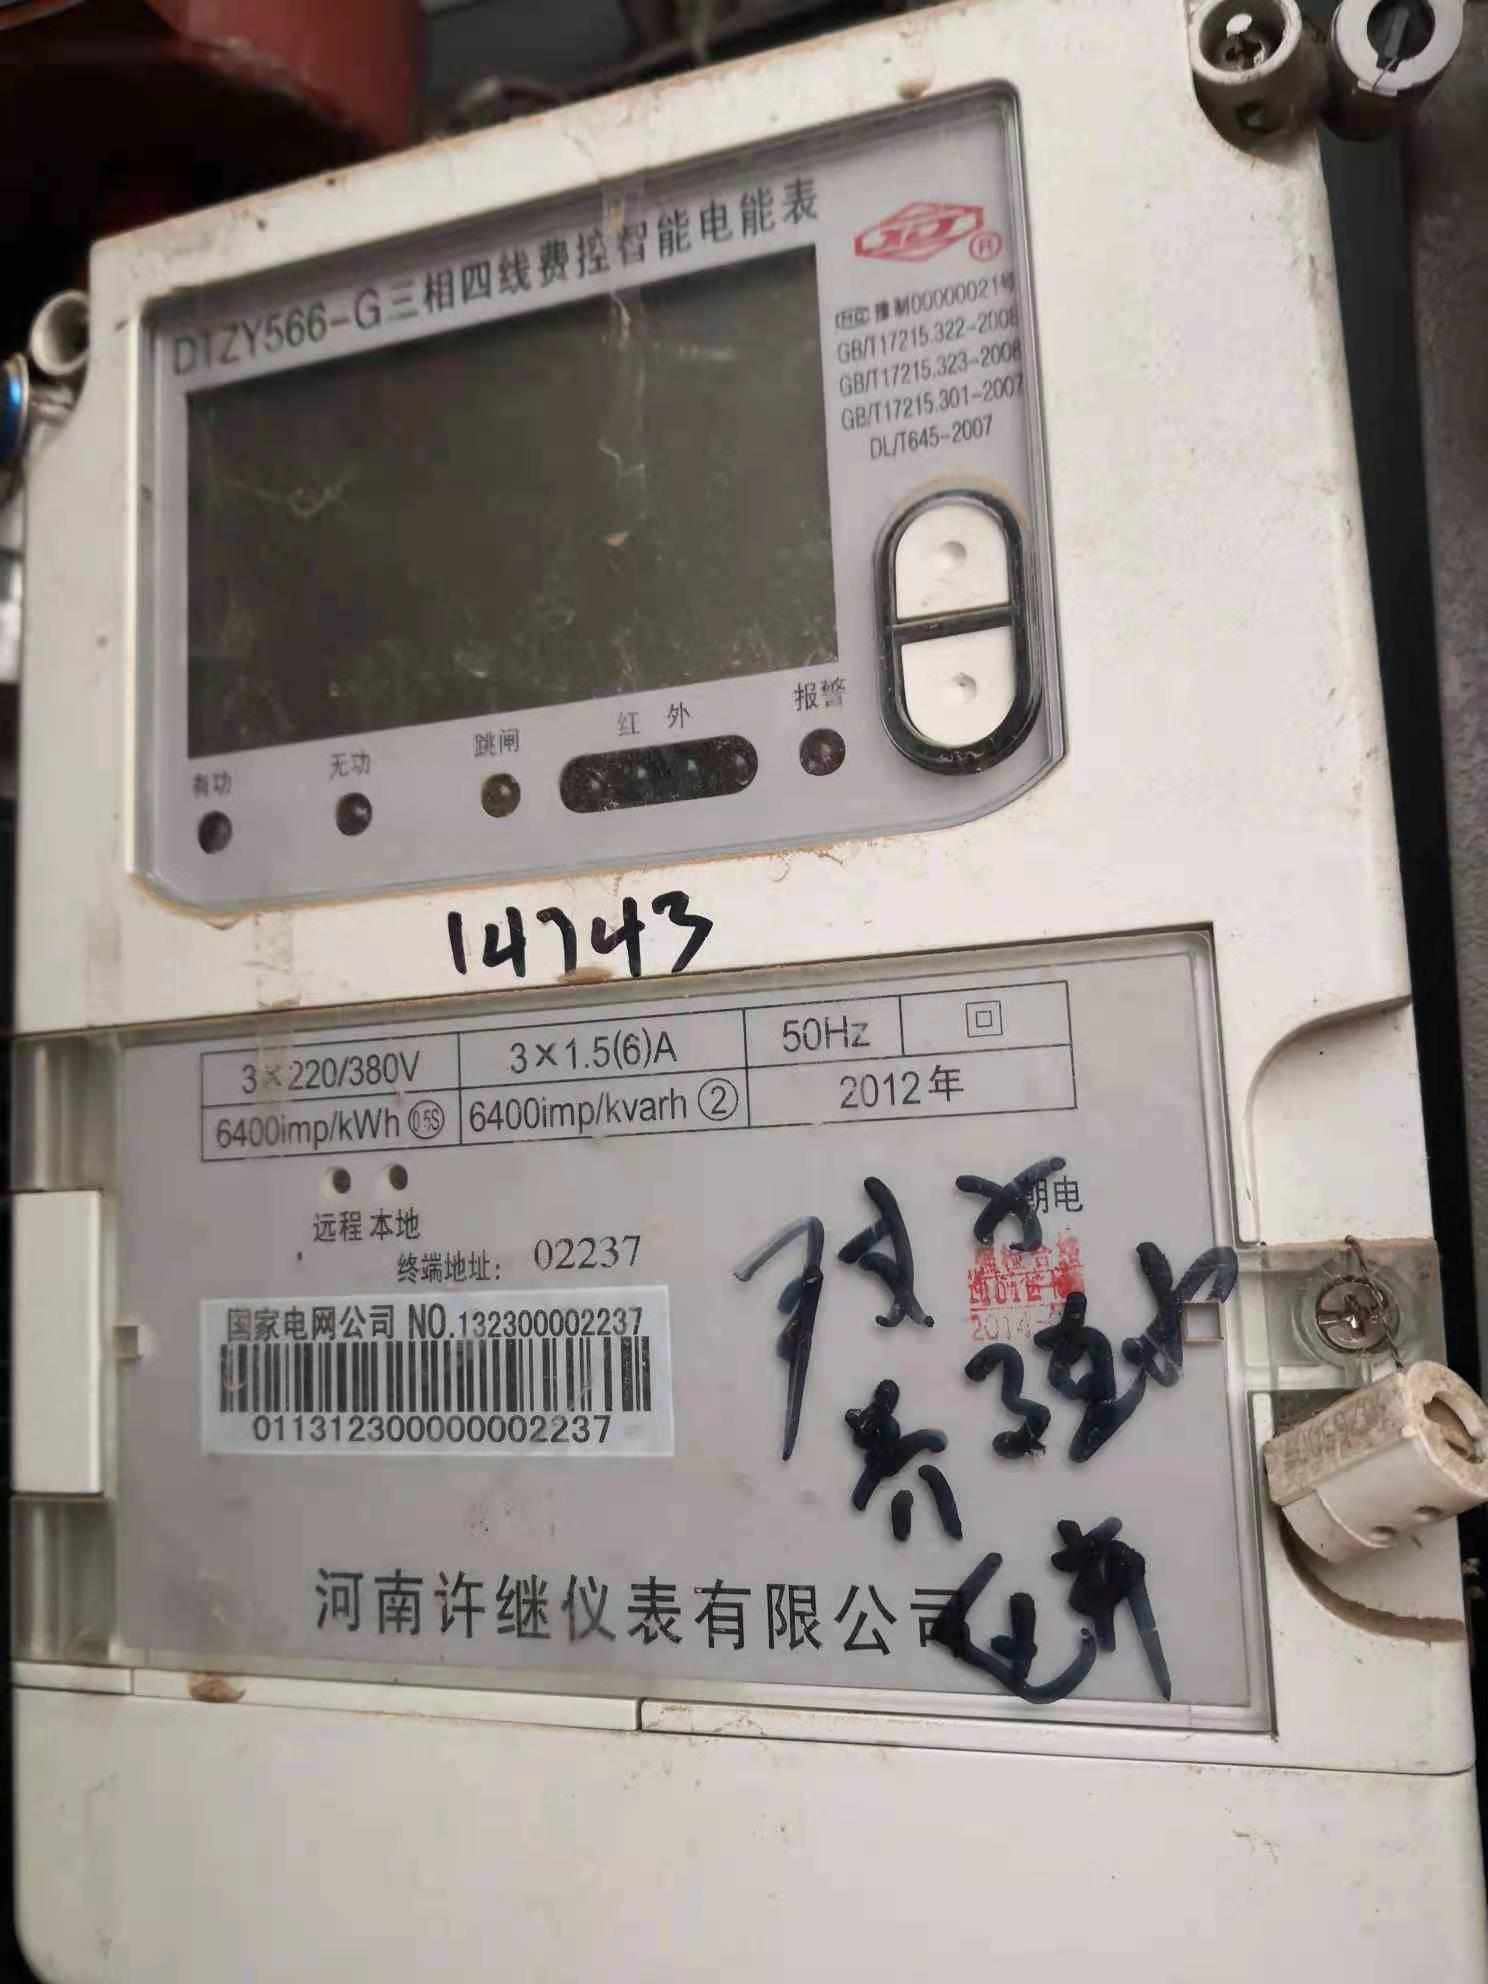digital: (5, 12, 1486, 1984)
